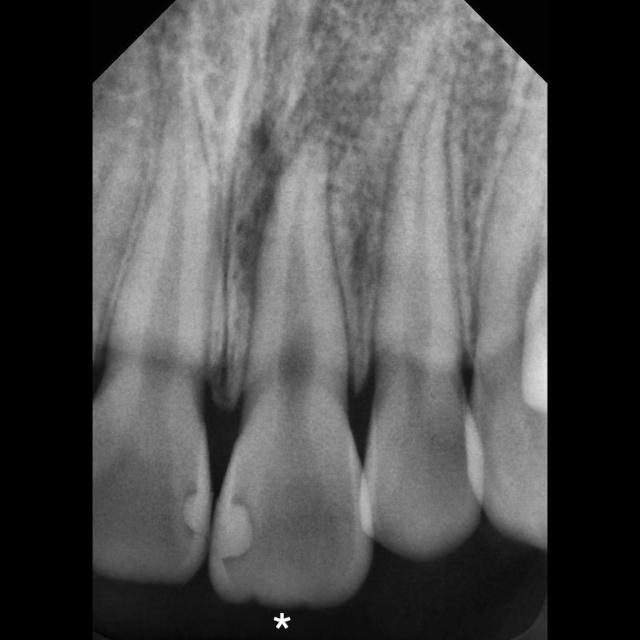test-segment: (210, 143, 370, 614)
